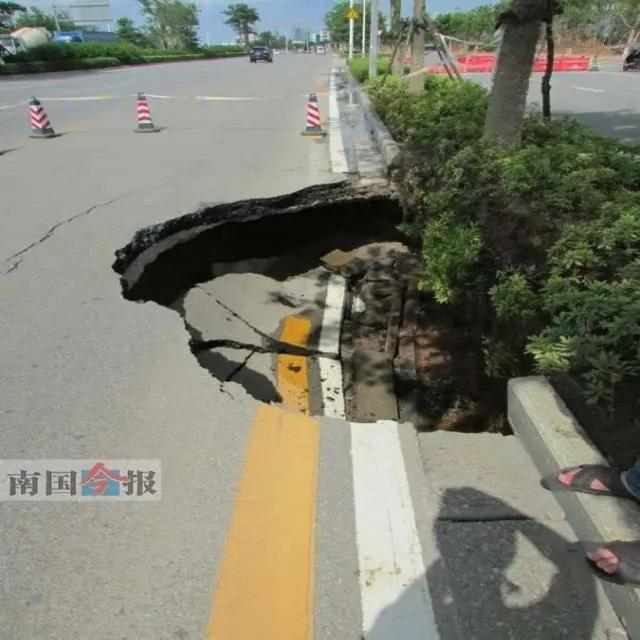Buraco: (110, 173, 526, 438)
